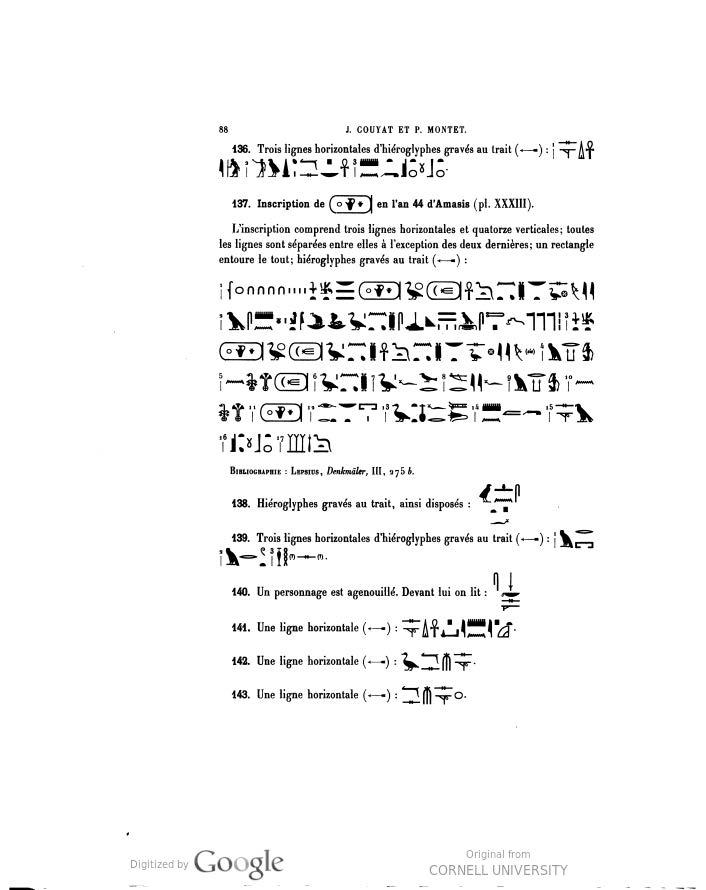circle: (280, 326, 336, 372), (250, 392, 313, 431), (356, 273, 408, 312), (264, 364, 320, 400), (218, 337, 269, 369), (425, 270, 467, 308), (323, 192, 384, 218)
